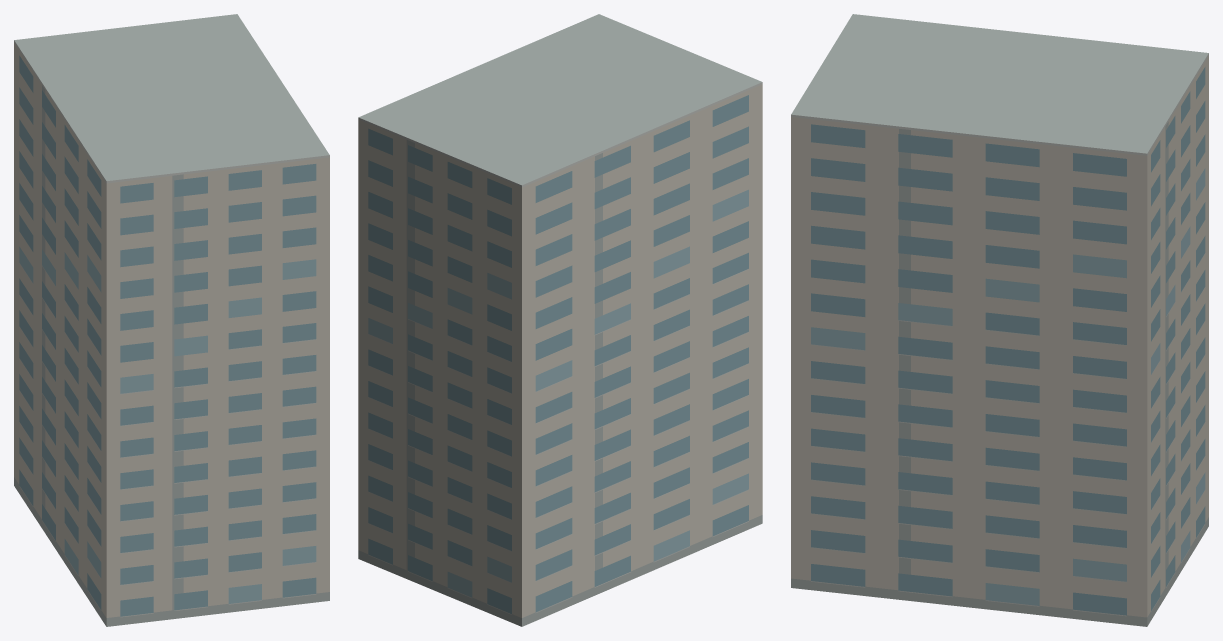
Rendered from residential-71b475f0-e57b-4058-a0c9-1cfd92bc5280.glb.
3 renders of one model, left to right at view 1: azimuth 30°, elevation 25°; view 2: azimuth 150°, elevation 25°; view 3: azimuth 270°, elevation 25°, orthographic. The views are drawn at different scales.
Visible parts, largest first — view 1: residential-71b475f0-e57b-4058-a0c9-1cfd92bc5280.tmp; view 2: residential-71b475f0-e57b-4058-a0c9-1cfd92bc5280.tmp; view 3: residential-71b475f0-e57b-4058-a0c9-1cfd92bc5280.tmp.
Boxes of the visible parts, x1,y1,x2,y2 form: residential-71b475f0-e57b-4058-a0c9-1cfd92bc5280.tmp: (14, 14, 329, 626); residential-71b475f0-e57b-4058-a0c9-1cfd92bc5280.tmp: (358, 14, 762, 626); residential-71b475f0-e57b-4058-a0c9-1cfd92bc5280.tmp: (791, 14, 1208, 626).
Size of the model in its own units: 31.65 by 50 by 40.02.
